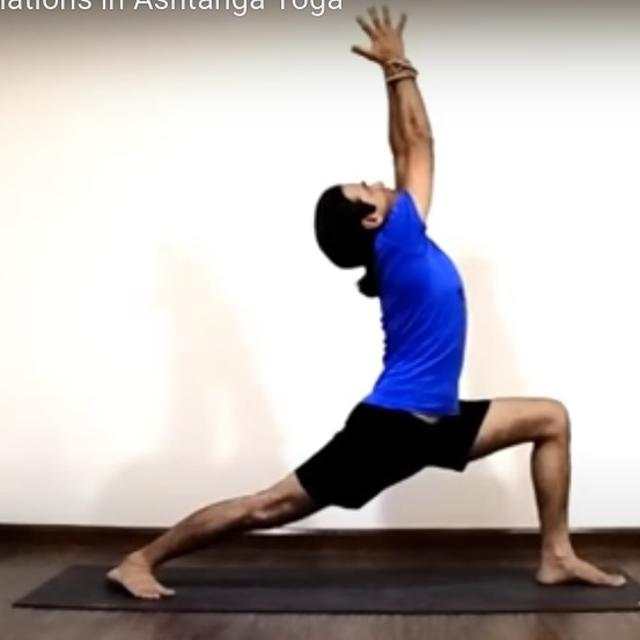Warrior_I: (96, 2, 630, 609)
